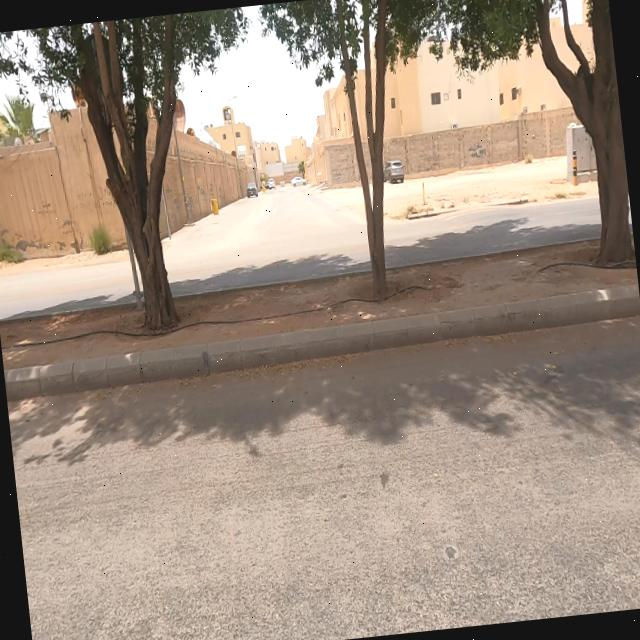Graffiti: (71, 190, 99, 216), (36, 199, 60, 223), (96, 186, 118, 210), (469, 142, 487, 161)
